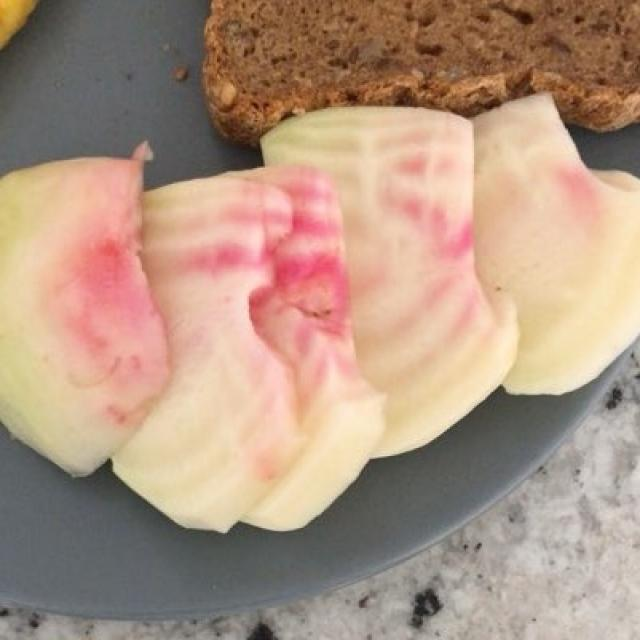beetroot-raw: (3, 87, 638, 544)
bread-wholemeal: (218, 4, 631, 132)
